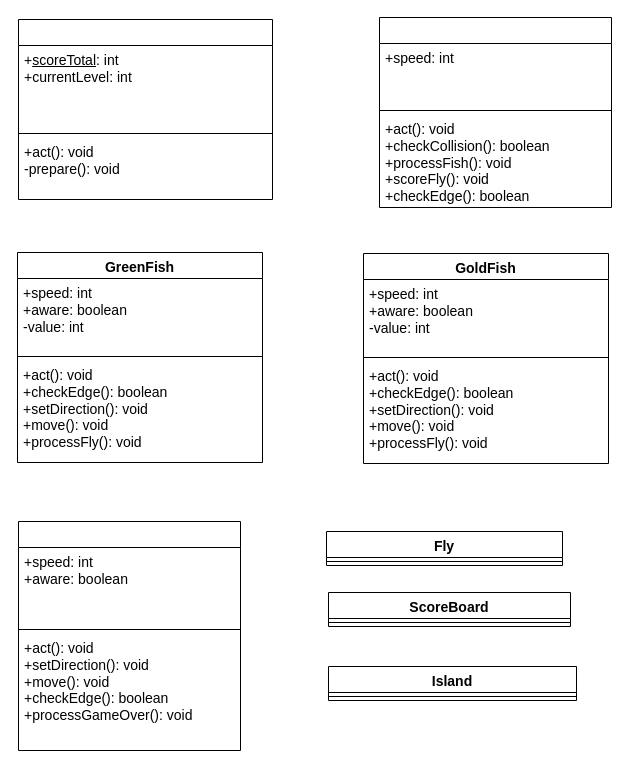
Some shapes in this 629 by 771 pixel diagram are drawn without their labels. Here are the shapes that lost their labels. From the top down, the box of each, then its label:
(18, 18, 272, 200): Pond
(378, 16, 612, 208): Turtle
(18, 520, 240, 750): Alligator
